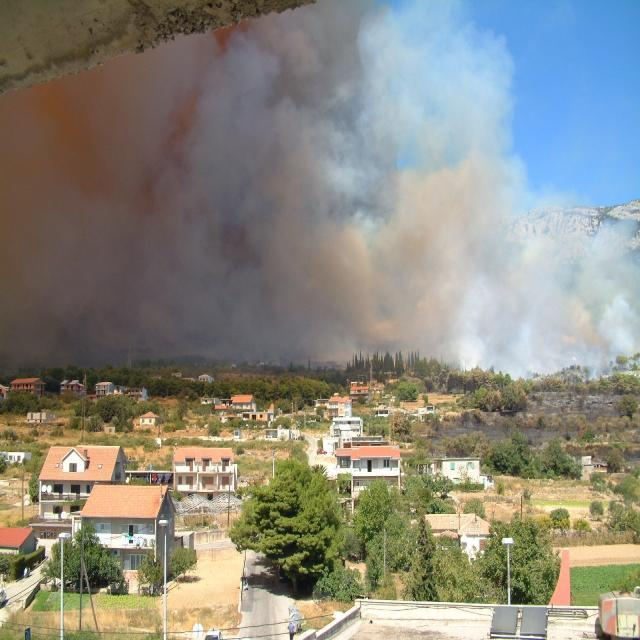Smoke: (1, 1, 638, 384)
